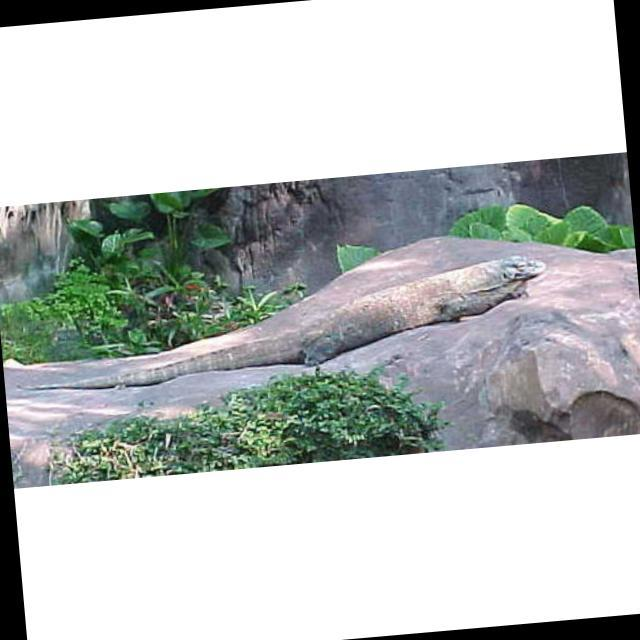KomodoDragon: (8, 250, 553, 396)
